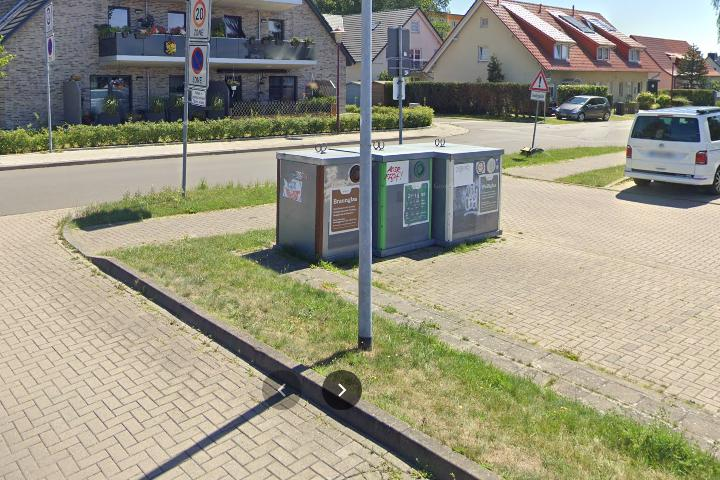google_maps: (261, 368, 303, 413), (322, 368, 363, 410)
traffic_sign: (529, 69, 549, 92), (192, 1, 206, 29), (191, 47, 204, 77)
vehicle: (621, 101, 720, 199), (554, 93, 614, 123)
